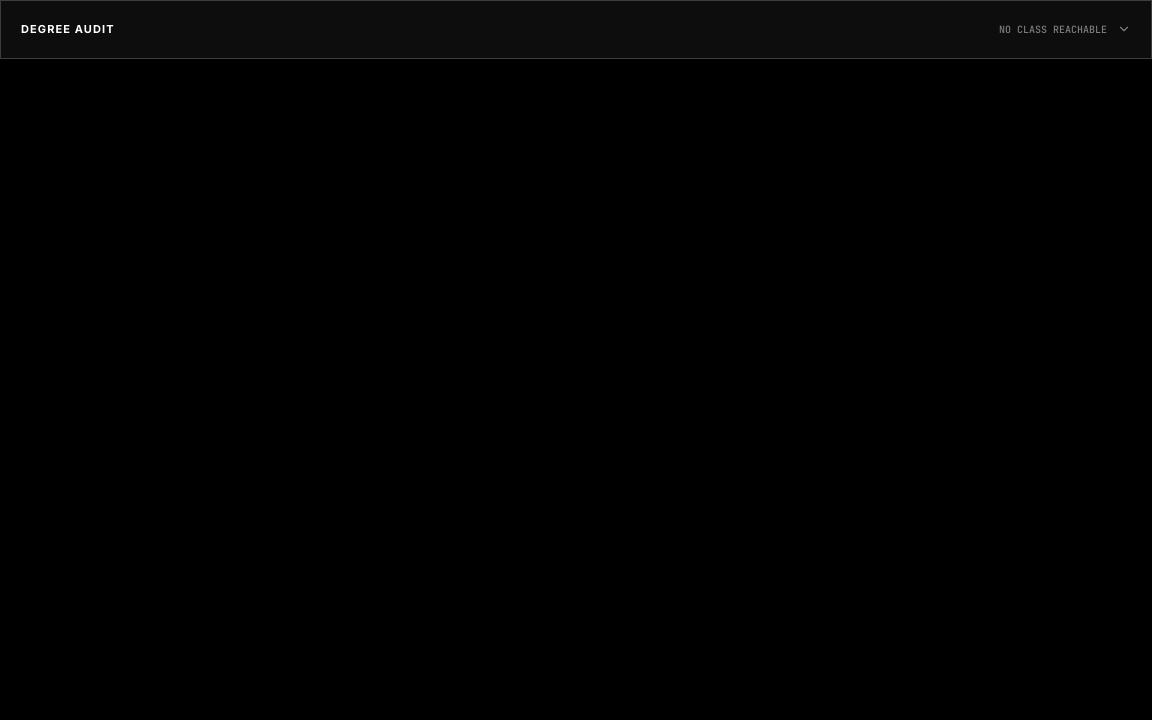
it: DegreeAudit › names the courses blocking a class it has ruled out
Click the button "Degree Audit No class reachable": (68, 29) [1,1,1151,58]
(page scrolled)
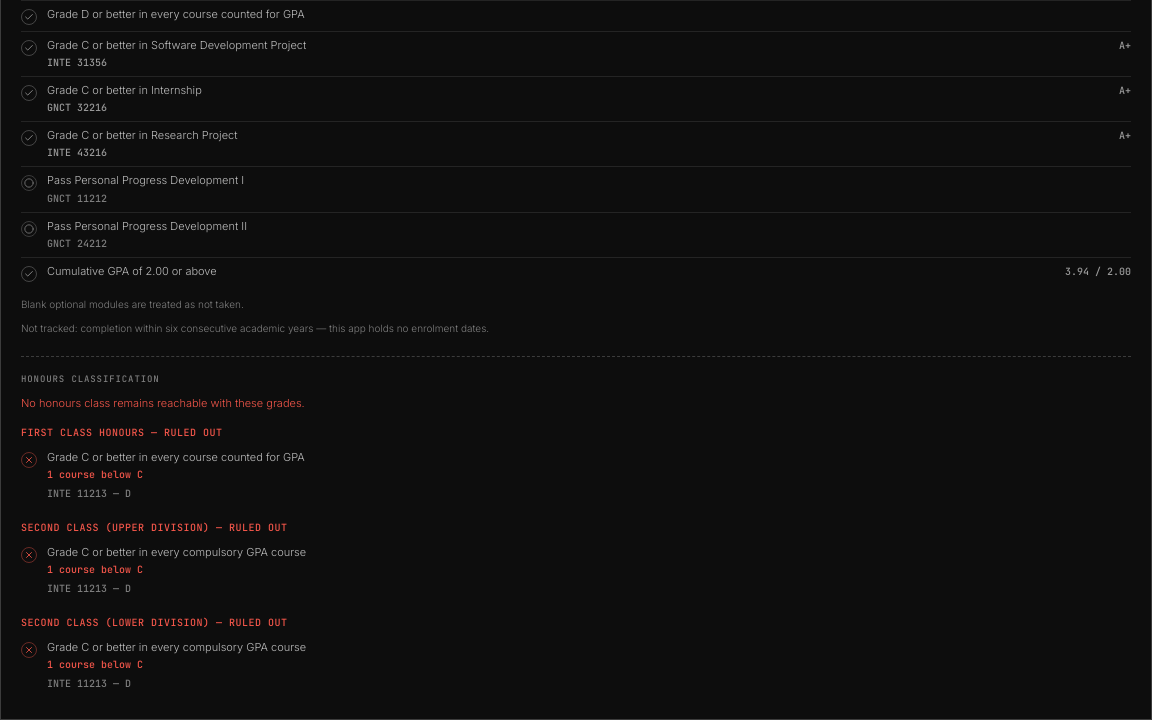
Expected: the text "First Class Honours — ruled out" is shown 3 times, [21,426,222,438]; [21,521,288,534]; [21,616,288,629]
Expected: the text "INTE 11213 — D" below "First Class Honours" is shown, [47,487,107,500]
